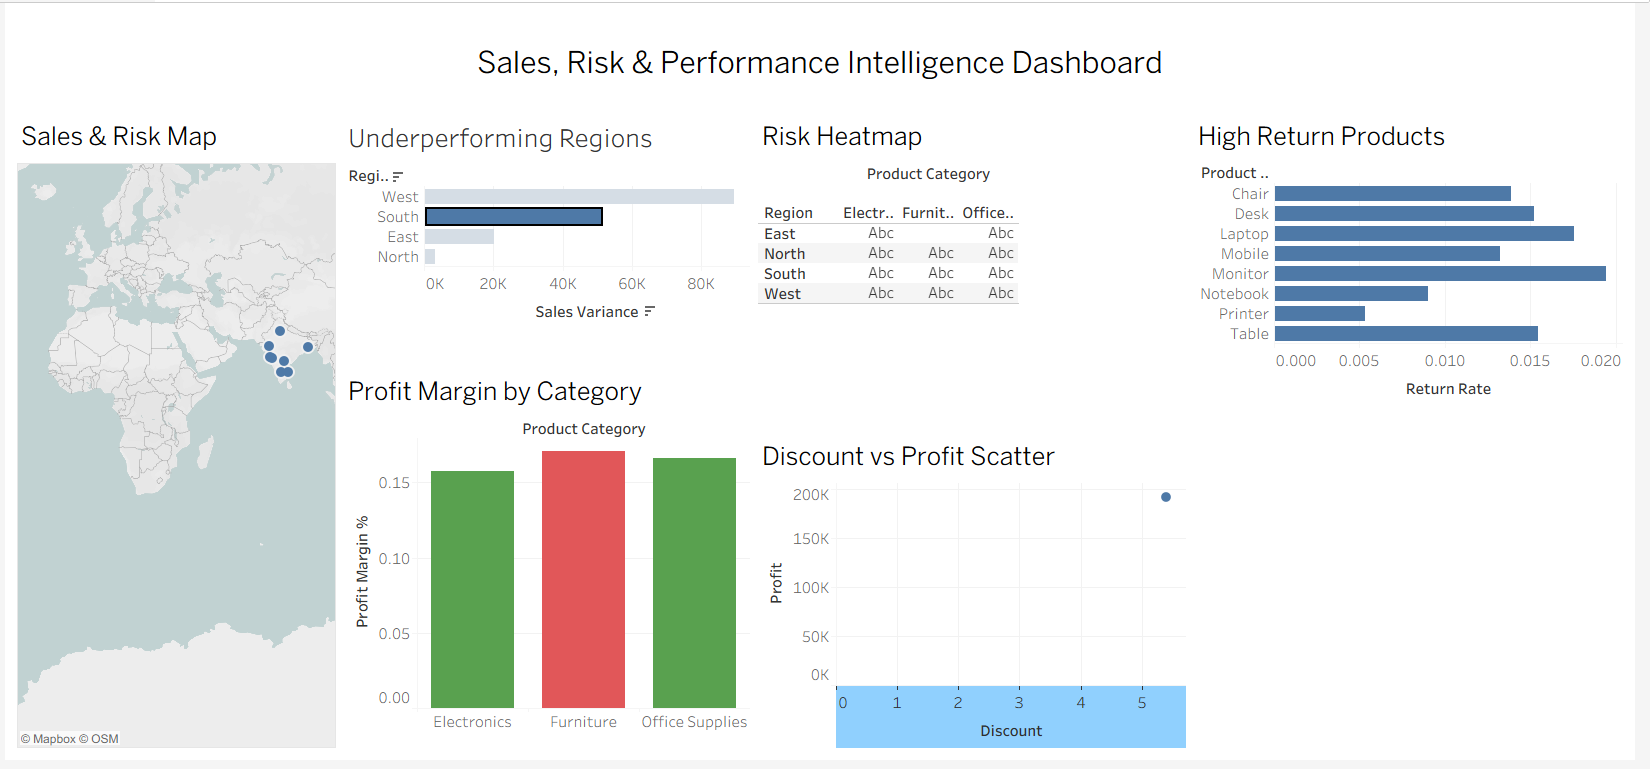

The dashboard page shown, as its layout file describes it:
{"tool":"tableau","page":{"name":"Dashboard 1","canvas":[1000,1000],"units":"permille","ordinal":0},"visuals":[{"type":"title","box":[4.9,10.6,990.2,133.4]},{"type":"worksheet","title":"Sheet 1","mark":"Automatic","box":[4.9,144,200.9,845.4]},{"type":"worksheet","title":"Sheet 2","mark":"Automatic","rows":["Region"],"cols":["Calculation_2049785811283970"],"box":[205.8,144,253.7,336.9]},{"type":"worksheet","title":"Sheet 4","mark":"Automatic","rows":["Region"],"cols":["Product_Category"],"box":[459.5,144,267.8,422.7]},{"type":"worksheet","title":"Sheet 6","mark":"Automatic","rows":["Product_Name"],"cols":["Calculation_2049785811128321"],"box":[727.3,144,267.8,422.7]},{"type":"worksheet","title":"Sheet 3","mark":"Automatic","rows":["Calculation_2049785810681856"],"cols":["Product_Category"],"box":[205.8,480.9,253.7,508.6]},{"type":"worksheet","title":"Sheet 5","mark":"Automatic","rows":["Profit"],"cols":["Discount"],"box":[459.5,566.7,267.8,422.7]},{"type":"text","box":[727.3,566.7,267.8,422.7]}]}

Visuals, with their boxes on the dashboard's canvas, which has no fixed pixel size, in thousandths of its width and height (x1, y1, x2, y2). These are canvas units, not pixel positions in the 1650x769 screenshot, which may show the page scaled, cropped or inside an application window:
title: 5,11,995,144
"Sheet 1" worksheet: 5,144,206,989
"Sheet 2" worksheet: 206,144,460,481
"Sheet 4" worksheet: 460,144,727,567
"Sheet 6" worksheet: 727,144,995,567
"Sheet 3" worksheet: 206,481,460,990
"Sheet 5" worksheet: 460,567,727,989
text: 727,567,995,989
